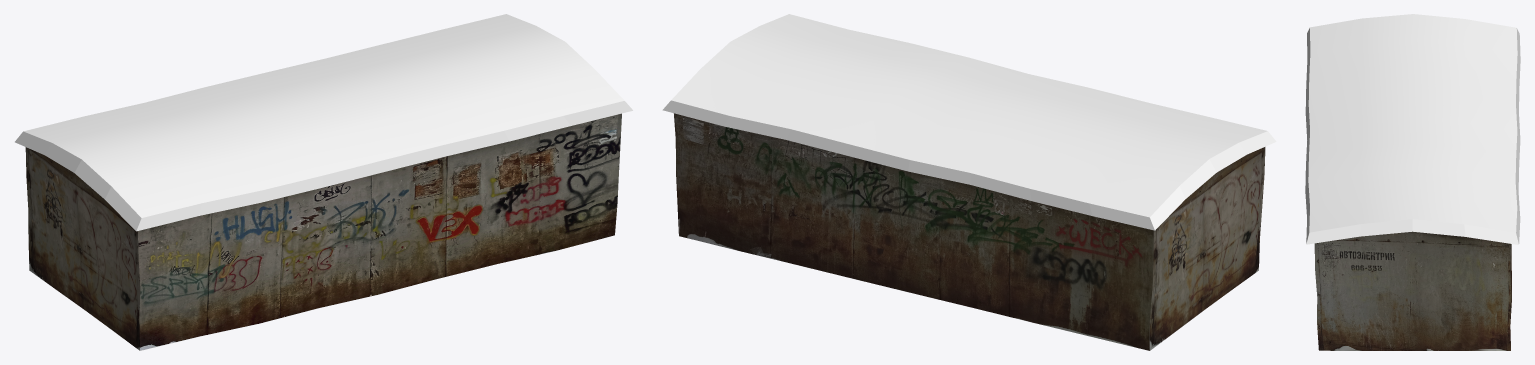
File: Garage_Rusty_01.fbx
3 views of the same model, side by side, from view 1: azimuth 30°, elevation 25°; view 2: azimuth 150°, elevation 25°; view 3: azimuth 270°, elevation 25° (orthographic). The views are drawn at different scales.
Parts seen in each view (by area): view 1: Garage_Rusty_01; view 2: Garage_Rusty_01; view 3: Garage_Rusty_01.
Boxes of the visible parts, x1=… form: Garage_Rusty_01: x1=15, y1=14, x2=632, y2=350; Garage_Rusty_01: x1=662, y1=14, x2=1276, y2=350; Garage_Rusty_01: x1=1305, y1=14, x2=1520, y2=350.
Size of the model in its own units: 101 by 29.88 by 43.36.
Materials: 1 (1 with a texture image).
